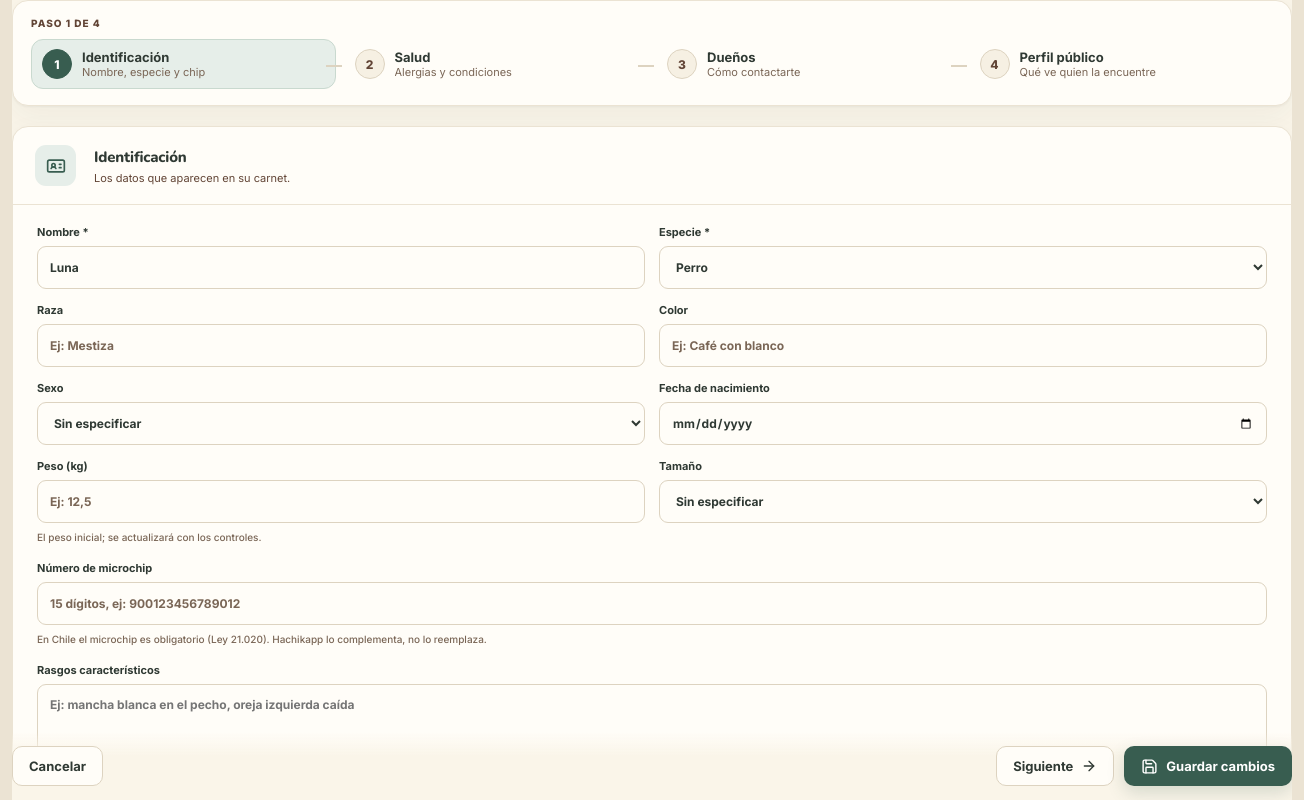
PetForm wizard › clears a visibility error when that row changes
Click the button "Guardar cambios".
click(1208, 766)  # box [1124,746,1292,786]
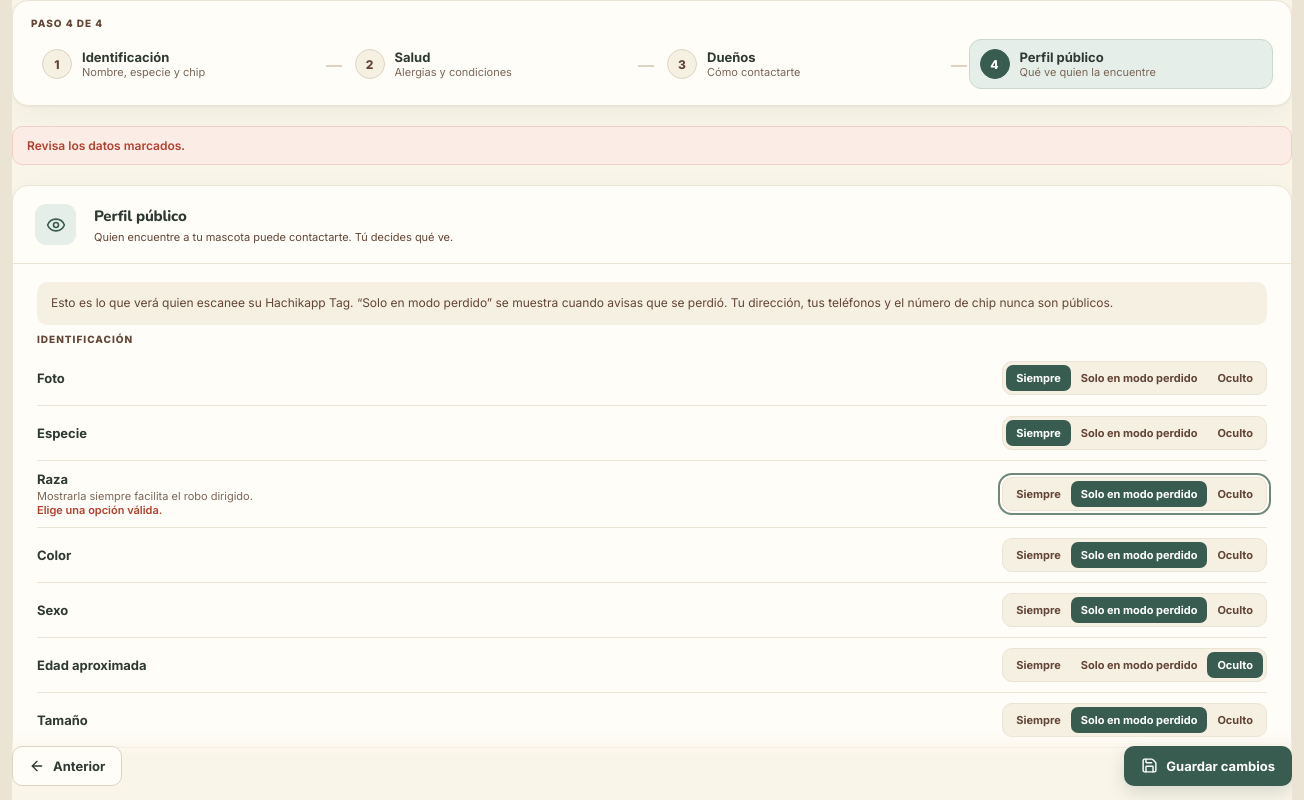
expect the text "Elige una opción válida." is shown: met, box [37,503,162,517]
Click the radio button labelled "Siempre" in the row of "Elige una opción válida.".
click(1039, 494)  # box [1016,487,1061,501]
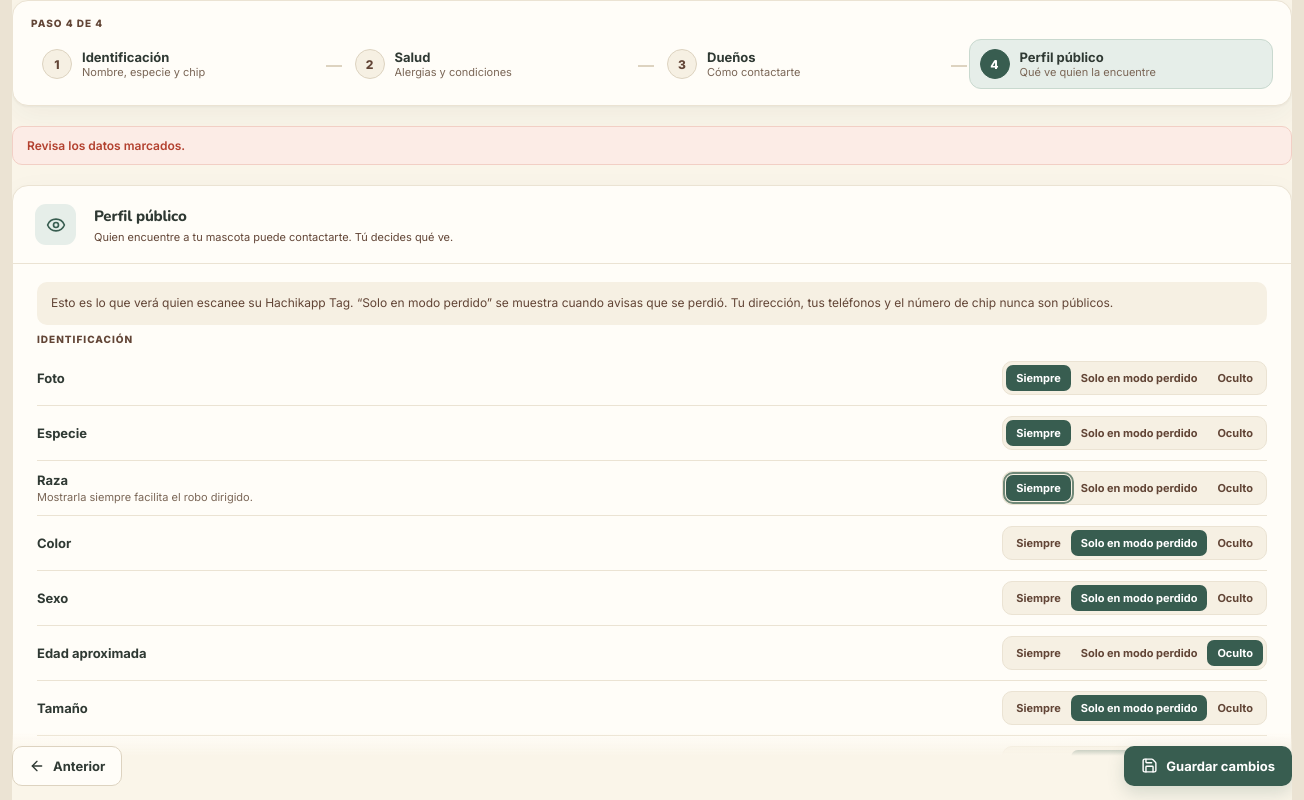
expect the text "Elige una opción válida." is gone: met
